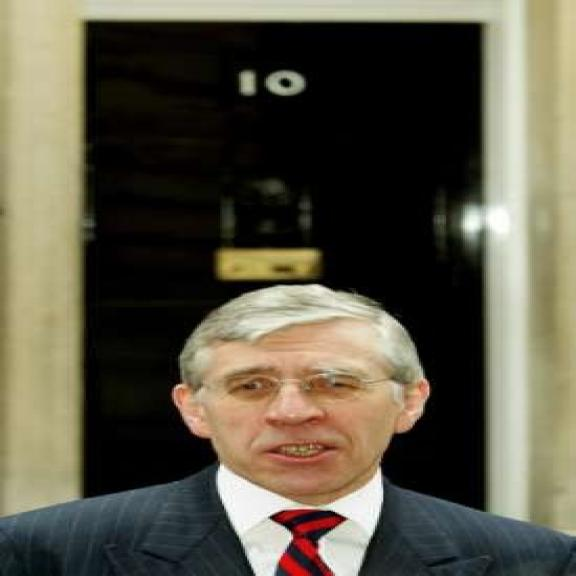face: (168, 323, 432, 494)
